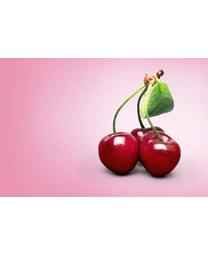cherry: (97, 132, 141, 175), (141, 131, 180, 177), (130, 126, 163, 163)
